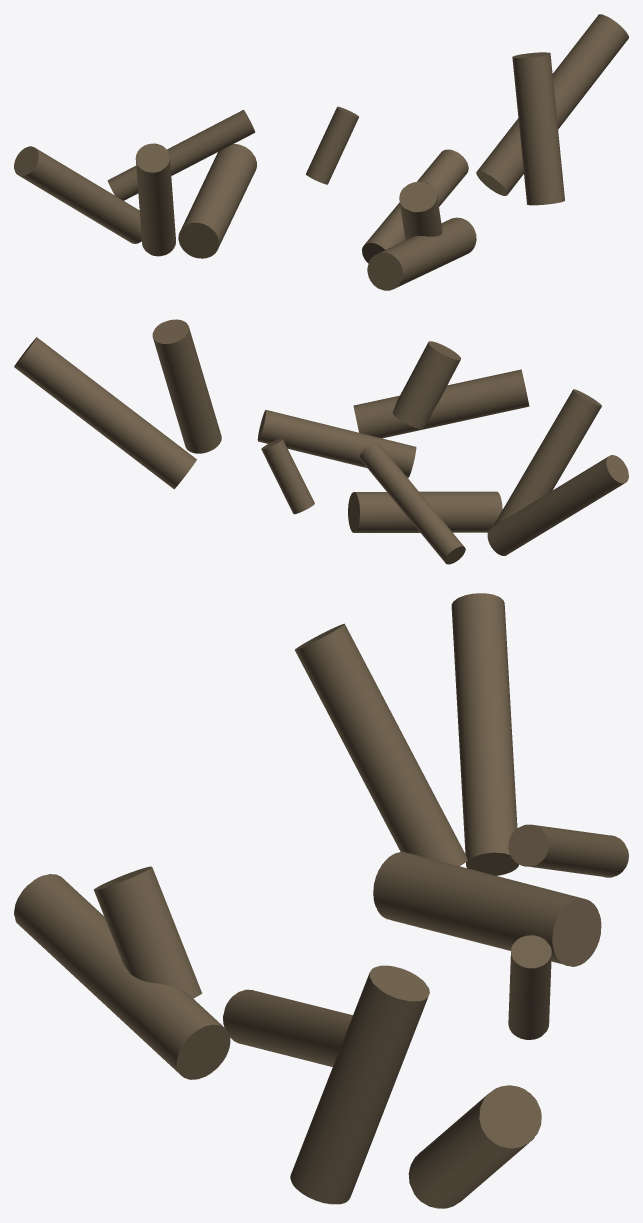
Rendered from f24-deadfall-branch-pile.lod1.glb.
3 renders of one model, top to bottom at view 1: azimuth 30°, elevation 25°; view 2: azimuth 150°, elevation 25°; view 3: azimuth 270°, elevation 25°, orthographic. The views are drawn at different scales.
Parts seen in each view (by area): view 1: part5, part6, part8, part0, part9, part7, part4, part2, part1, part3; view 2: part5, part9, part6, part0, part8, part7, part2, part4, part1, part3; view 3: part6, part9, part8, part0, part7, part5, part1, part2, part4, part3.
Part boxes in pixels (x1,y1,x2,y2): part5: [476, 14, 628, 195]; part6: [512, 52, 564, 205]; part8: [178, 144, 256, 258]; part0: [14, 146, 141, 243]; part9: [367, 217, 476, 290]; part7: [135, 143, 175, 256]; part4: [107, 110, 255, 200]; part2: [362, 149, 468, 263]; part1: [399, 181, 442, 240]; part3: [306, 106, 358, 184]; part5: [14, 337, 196, 489]; part9: [353, 369, 529, 438]; part6: [152, 319, 221, 453]; part0: [487, 455, 628, 555]; part8: [348, 491, 502, 532]; part7: [494, 389, 601, 525]; part2: [257, 410, 416, 477]; part4: [359, 443, 465, 564]; part1: [392, 341, 460, 429]; part3: [261, 438, 314, 514]; part6: [290, 965, 429, 1204]; part9: [14, 874, 230, 1079]; part8: [373, 852, 601, 966]; part0: [451, 593, 518, 875]; part7: [295, 623, 467, 866]; part5: [408, 1085, 541, 1208]; part1: [94, 866, 201, 998]; part2: [223, 989, 352, 1066]; part4: [508, 824, 628, 877]; part3: [508, 935, 551, 1039].
Bounding box in the file's own units: 2988 × 773 × 1563.
